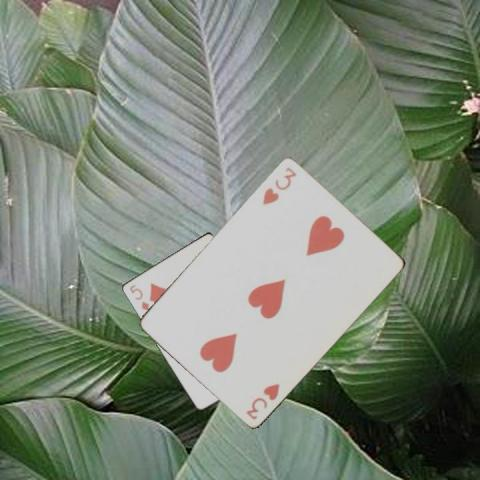3h: (260, 163, 298, 206), (243, 380, 280, 421)
5d: (126, 281, 150, 312)
